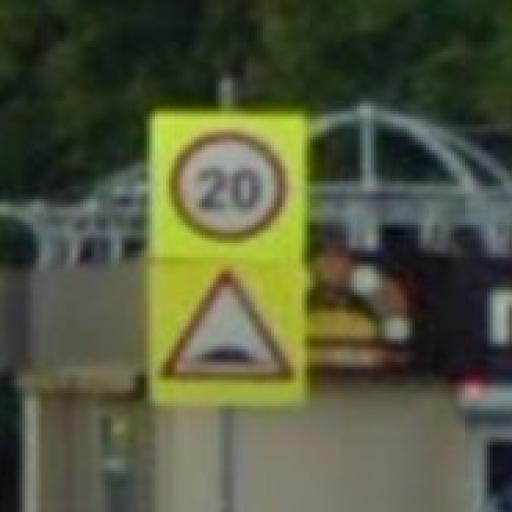traffic_sign: (159, 265, 294, 386), (167, 130, 289, 244)
